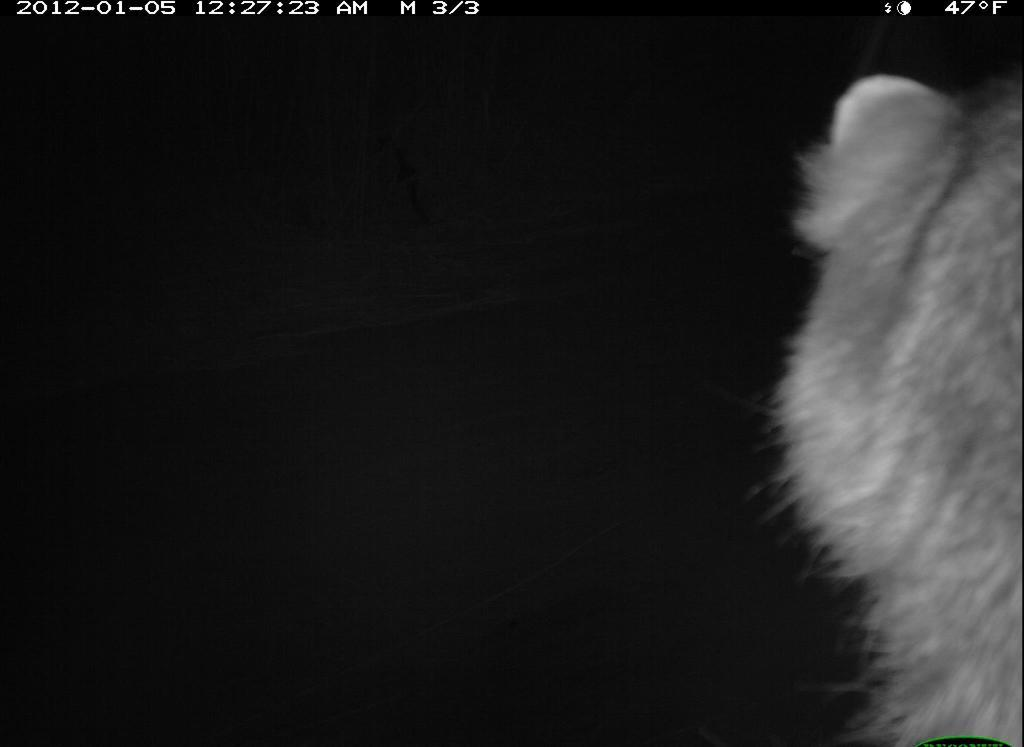raccoon: (751, 45, 1024, 747)
